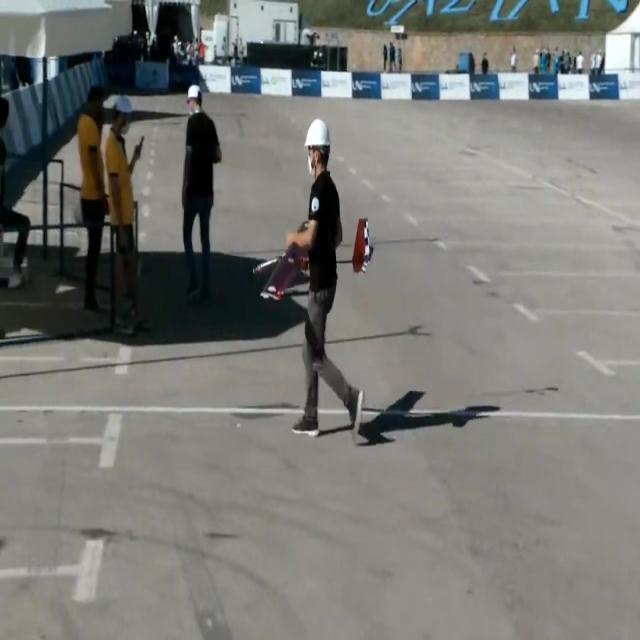iha: (282, 245, 341, 273)
